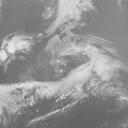cyclone: (36, 42, 105, 101)
